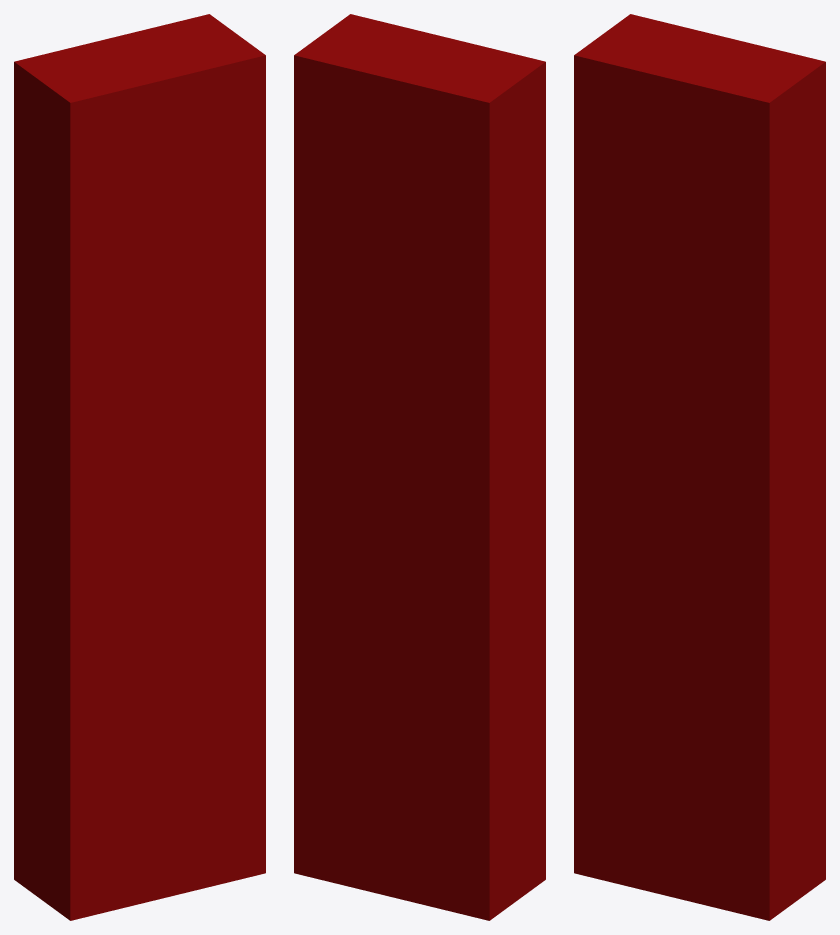
File: SM_Bathroom_Wall_A_Quarter.gltf
3 renders of one model, left to right at view 1: azimuth 30°, elevation 25°; view 2: azimuth 150°, elevation 25°; view 3: azimuth 330°, elevation 25°, orthographic.
Parts seen in each view (by area): view 1: SM_Bathroom_Wall_A_Quarter; view 2: SM_Bathroom_Wall_A_Quarter; view 3: SM_Bathroom_Wall_A_Quarter.
Part boxes in pixels (x1,y1,x2,y2): SM_Bathroom_Wall_A_Quarter: (14, 14, 265, 920); SM_Bathroom_Wall_A_Quarter: (294, 14, 545, 920); SM_Bathroom_Wall_A_Quarter: (574, 14, 825, 920).
Bounding box in the file's own units: 1 × 4 × 0.5.
